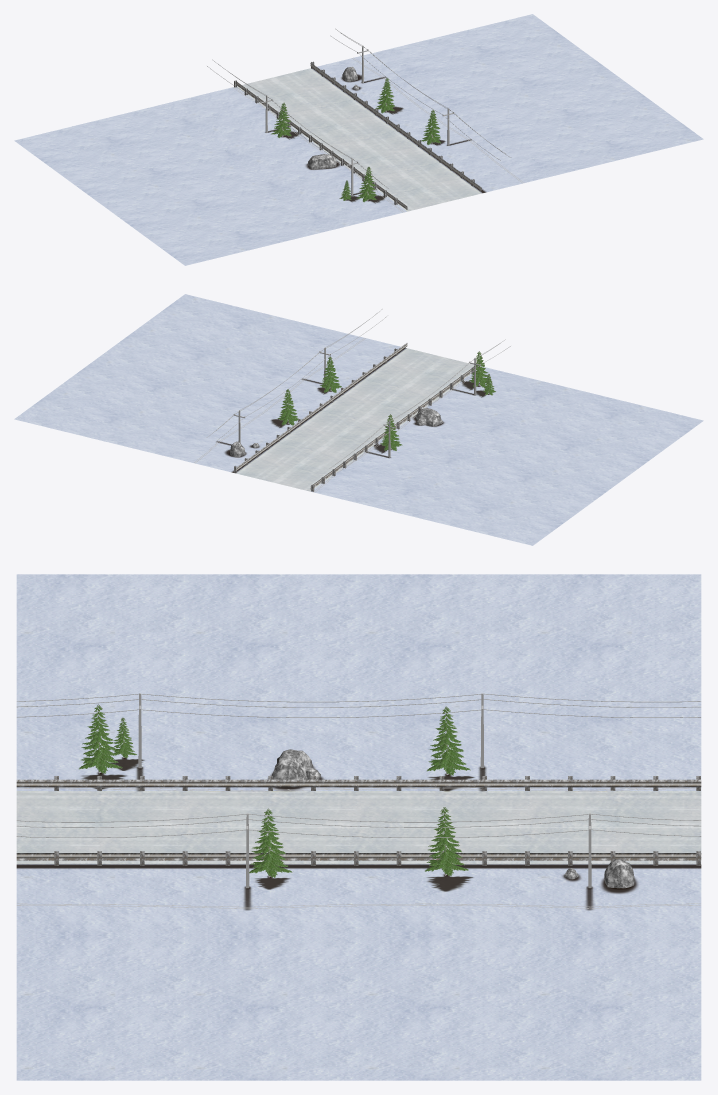
3 views of the same model, one above another, from view 1: azimuth 30°, elevation 25°; view 2: azimuth 150°, elevation 25°; view 3: azimuth 270°, elevation 25° (orthographic). The views are drawn at different scales.
Visible parts, largest first — view 1: scene2, road009, Box004, Box039, rock005; view 2: scene2, road009, Box004, Box039, rock005; view 3: scene2, road009, Box004, Box039, rock005.
Part boxes in pixels (left/top/right/bottom): scene2: left=14, top=14, right=703, bottom=265; road009: left=234, top=61, right=481, bottom=211; Box004: left=207, top=28, right=523, bottom=212; Box039: left=271, top=78, right=440, bottom=202; rock005: left=307, top=67, right=359, bottom=169; scene2: left=14, top=294, right=703, bottom=545; road009: left=234, top=343, right=480, bottom=491; Box004: left=194, top=309, right=510, bottom=492; Box039: left=277, top=351, right=495, bottom=450; rock005: left=230, top=408, right=442, bottom=457; scene2: left=16, top=574, right=701, bottom=1080; road009: left=16, top=776, right=701, bottom=865; Box004: left=16, top=693, right=701, bottom=908; Box039: left=79, top=704, right=470, bottom=877; rock005: left=272, top=749, right=635, bottom=888.
Size of the model in its own units: 140 by 10 by 80.
